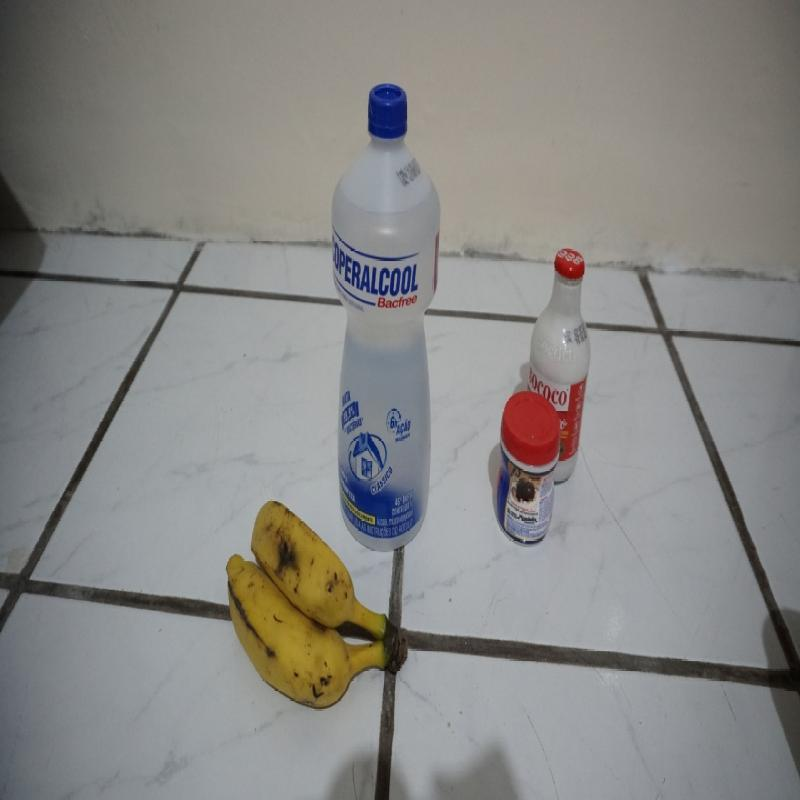Alcohol Bottle: (329, 80, 432, 498)
Banana: (224, 504, 406, 746)
Coconut Milk: (530, 246, 590, 390)
Yeast: (497, 391, 554, 553)
